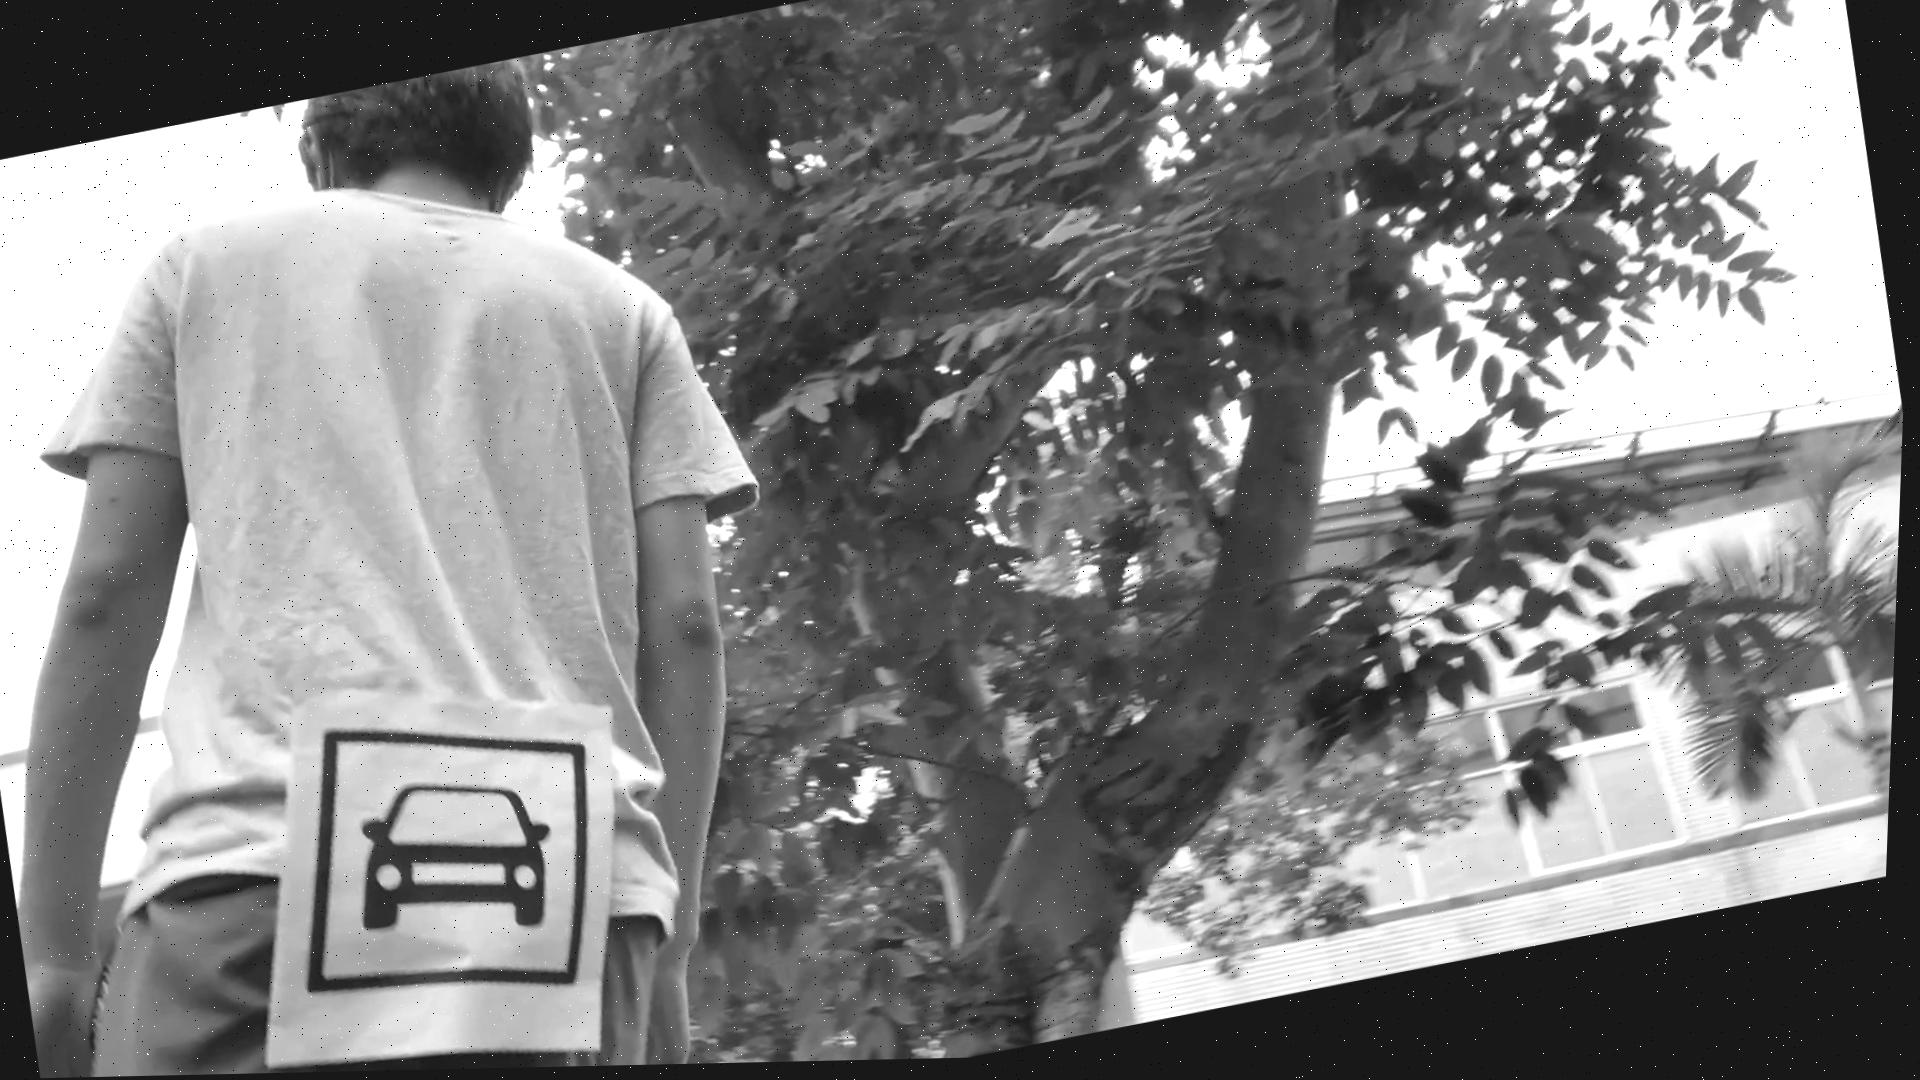car_img: (269, 683, 633, 1039)
